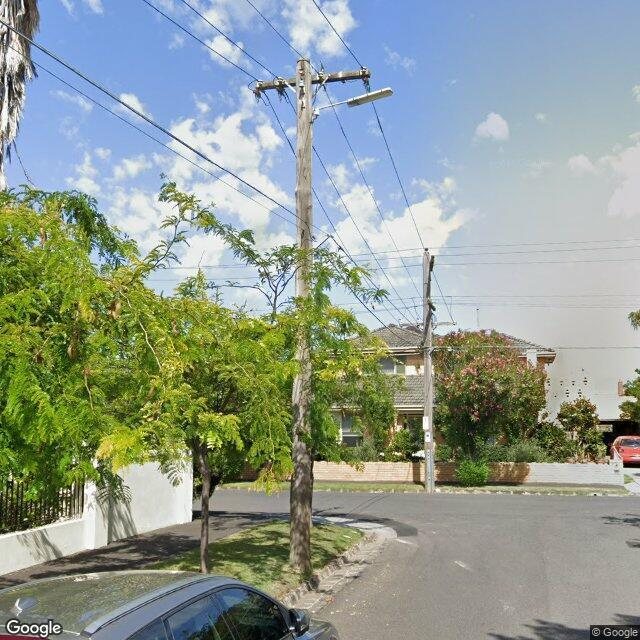crossarm: (248, 66, 372, 105)
streetlight: (311, 86, 394, 114)
timber-pole: (290, 59, 313, 570), (423, 251, 434, 492)
